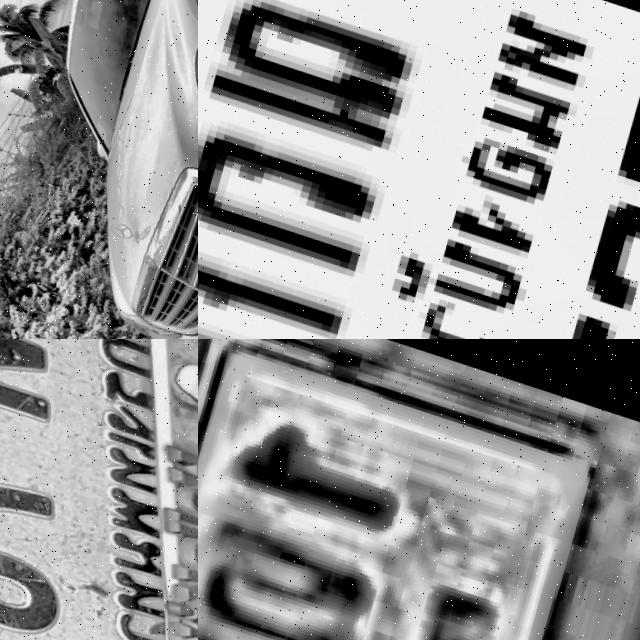license-plate: (198, 0, 640, 339), (198, 339, 626, 640), (0, 339, 198, 640)
